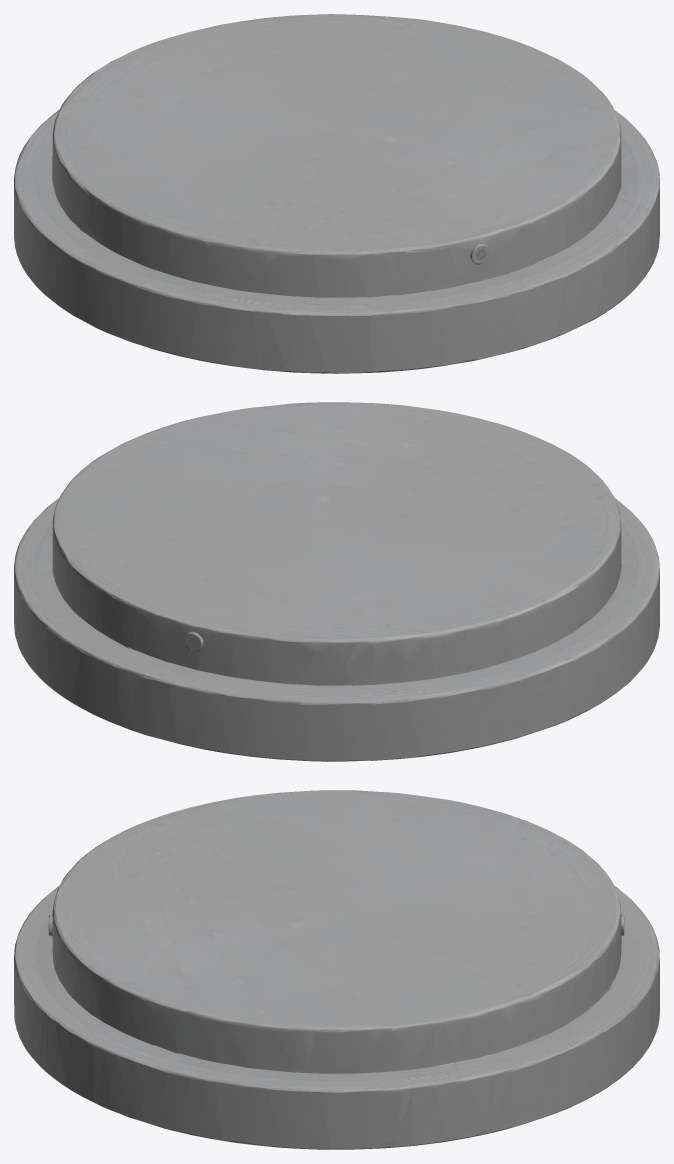
Rendered from chiroq-mobile.glb.
3 renders of one model, top to bottom at view 1: azimuth 30°, elevation 25°; view 2: azimuth 150°, elevation 25°; view 3: azimuth 270°, elevation 25°, orthographic.
Parts seen in each view (by area): view 1: output_unwrapped; view 2: output_unwrapped; view 3: output_unwrapped.
Part boxes in pixels (x1,y1,x2,y2): output_unwrapped: [14, 14, 659, 373]; output_unwrapped: [14, 402, 659, 761]; output_unwrapped: [14, 790, 659, 1149].
Size of the model in its own units: 1.2 by 0.216 by 1.2.
1 material, 1 textured.
